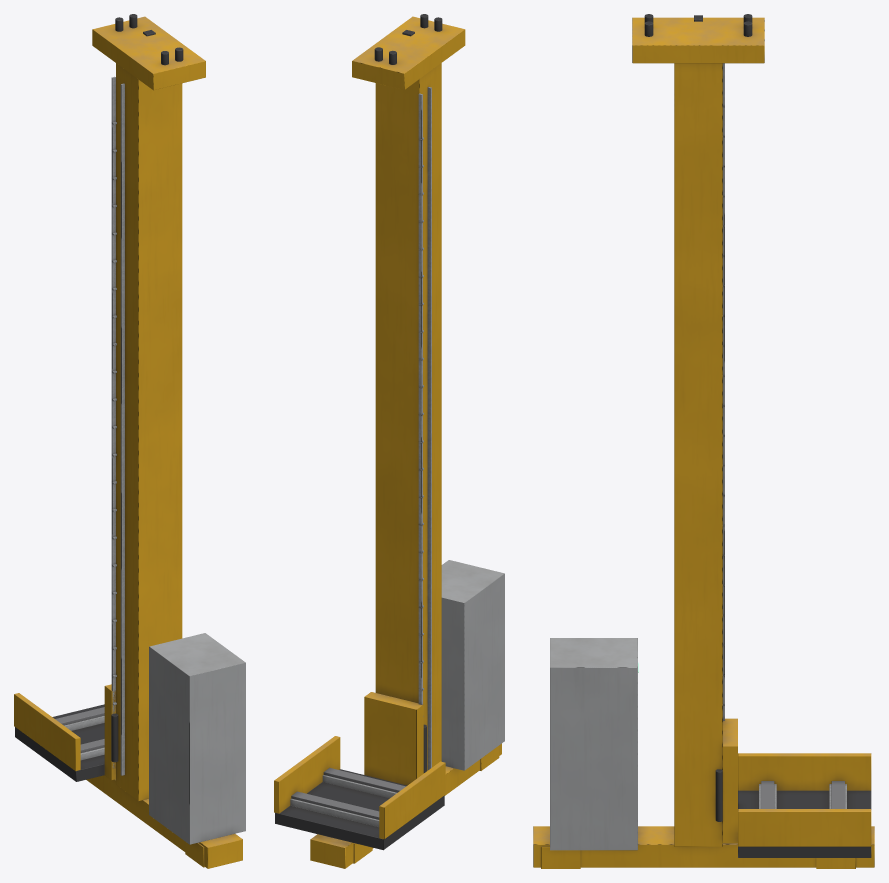
File: StackerCrane.fbx
3 renders of one model, left to right at view 1: azimuth 30°, elevation 25°; view 2: azimuth 150°, elevation 25°; view 3: azimuth 270°, elevation 25°, orthographic. The views are drawn at different scales.
Visible parts, largest first — view 1: StackerCrane_LOD0, Carriage_LOD0, Forks_LOD0; view 2: StackerCrane_LOD0, Carriage_LOD0, Forks_LOD0; view 3: StackerCrane_LOD0, Carriage_LOD0, Forks_LOD0.
Part boxes in pixels (box(x1,y1,x2,y2)): StackerCrane_LOD0: box(86, 14, 245, 868); Carriage_LOD0: box(14, 684, 118, 781); Forks_LOD0: box(55, 707, 104, 760); StackerCrane_LOD0: box(310, 14, 504, 868); Carriage_LOD0: box(274, 692, 445, 850); Forks_LOD0: box(290, 768, 405, 827); StackerCrane_LOD0: box(533, 14, 874, 868); Carriage_LOD0: box(715, 718, 871, 857); Forks_LOD0: box(759, 781, 846, 808).
Size of what is drawn, in the model's own units: 1.26 by 8.47 by 3.1.
1 material, 1 textured.
